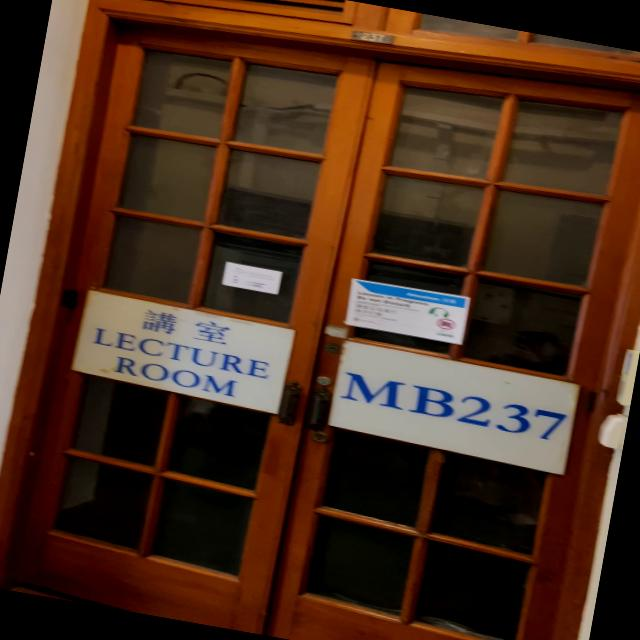room237: (344, 24, 400, 50)
room237Window: (332, 362, 574, 452)
